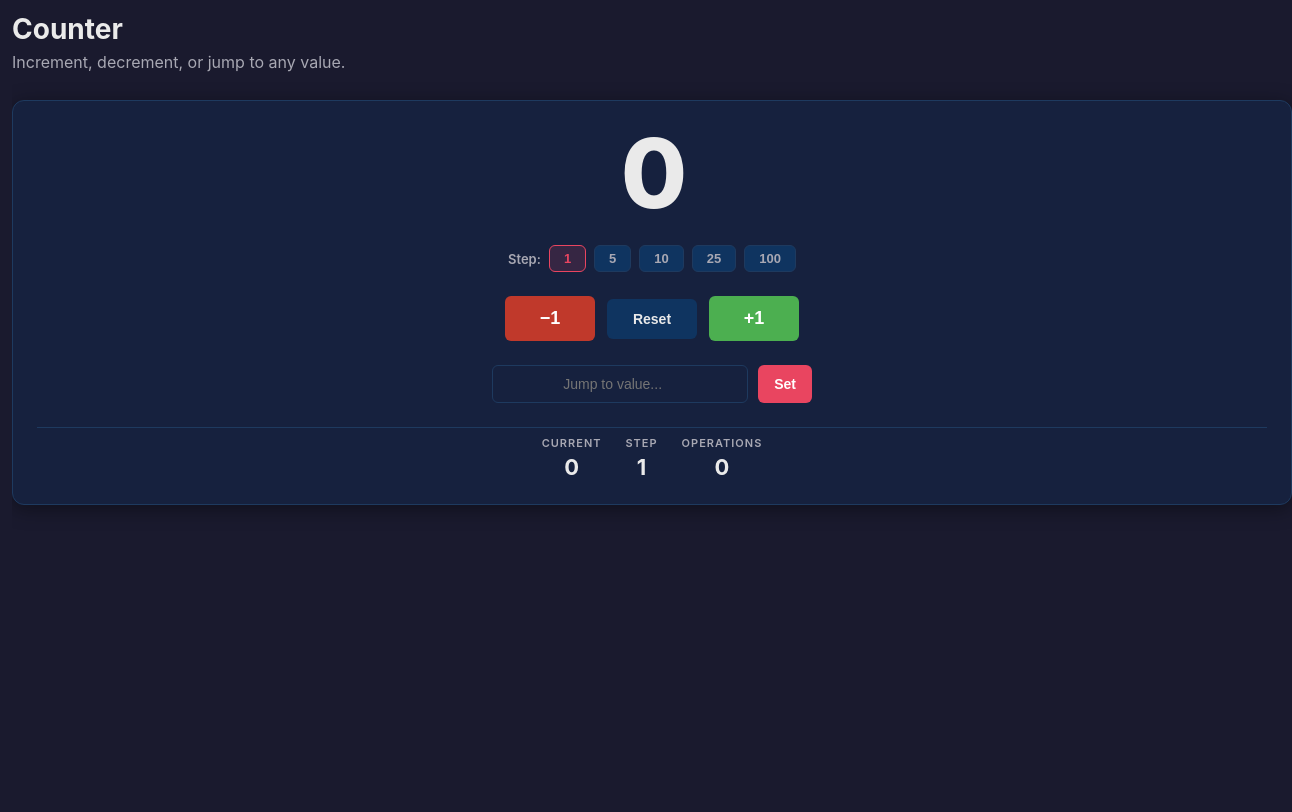
Test: decrements by step 1
This screenshot has width=1292, height=812.
Step 1. Click the button named "Decrement by 1" → x=550, y=318, box [505,296,595,341]
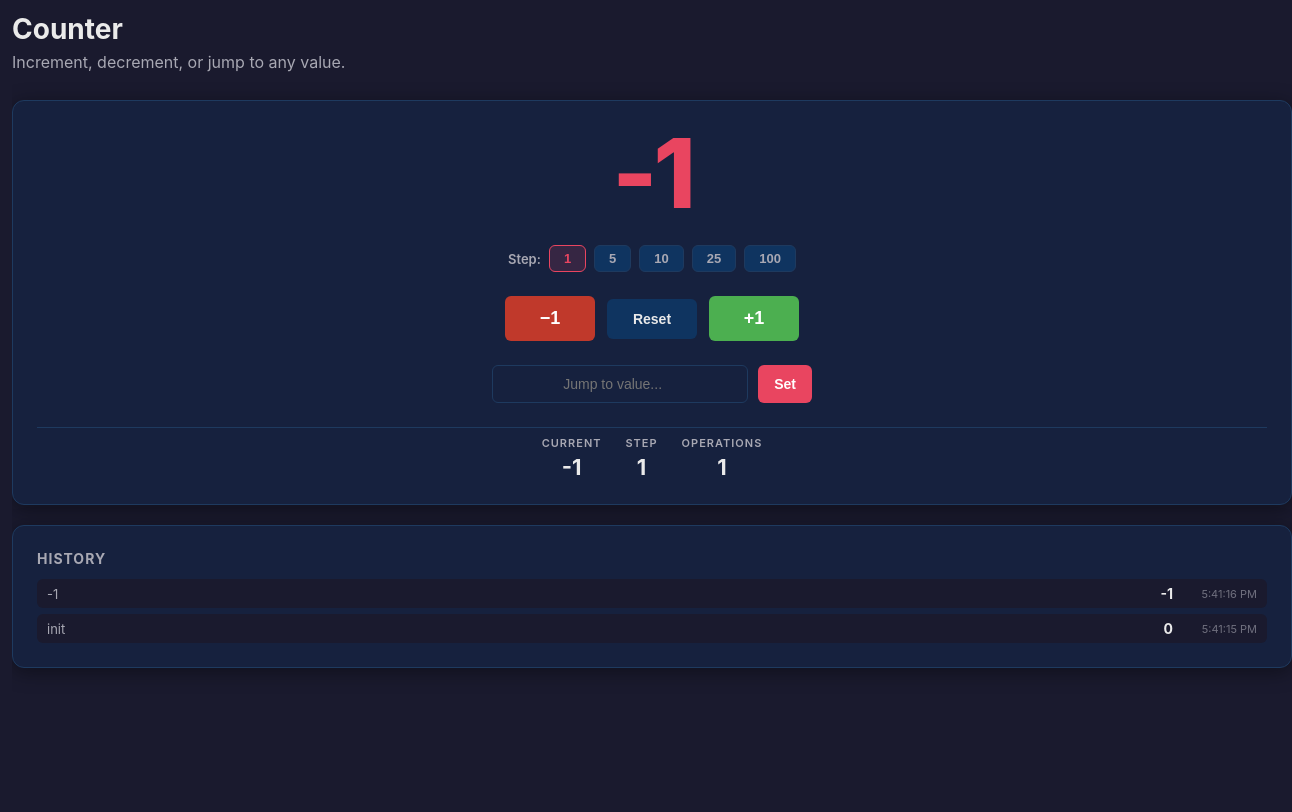
Check: the text named "Counter value: -1" is shown, box [612,115,692,231]
